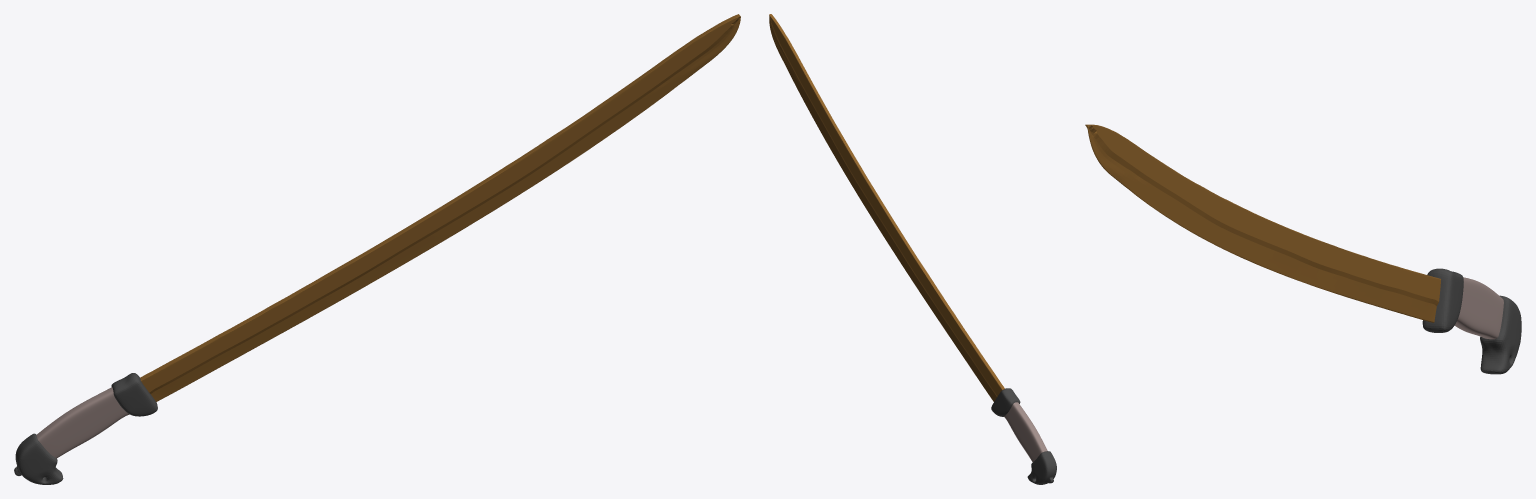
Rendered from COSSACK_WEAPON_2#9.glb.
The picture shows the model from 3 angles, left to right: view 1: azimuth 30°, elevation 25°; view 2: azimuth 150°, elevation 25°; view 3: azimuth 270°, elevation 25°; orthographic projection. The views are drawn at different scales.
Visible parts, largest first — view 1: Shaska2; view 2: Shaska2; view 3: Shaska2.
Part boxes in pixels (x1,y1,x2,y2): Shaska2: (14,14,740,484); Shaska2: (769,14,1056,484); Shaska2: (1085,124,1521,374).
Bounding box in the file's own units: 4.78 × 3.56 × 2.32.
